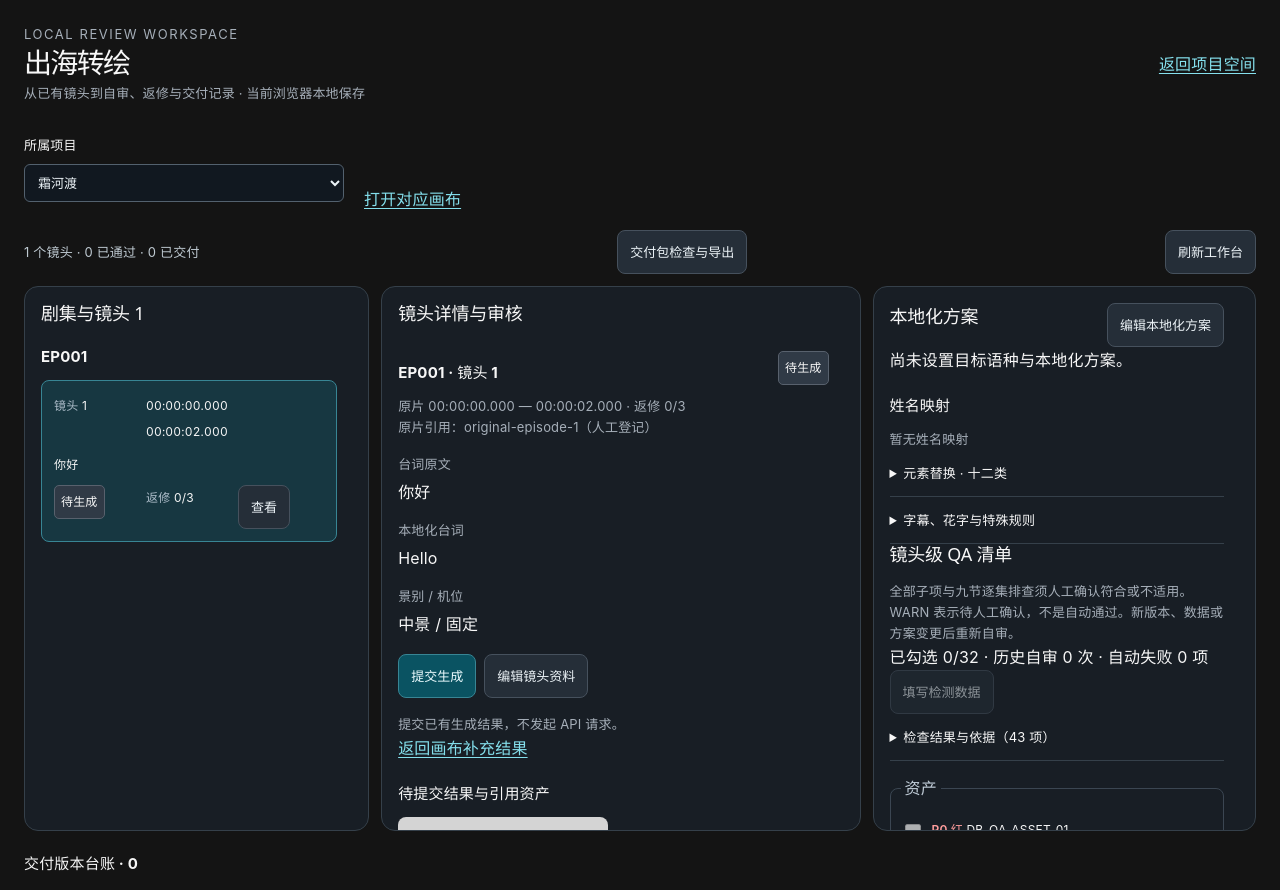
Esc 关闭本地化编辑面板并归还焦点，不保存未提交草稿
Click the button "编辑本地化方案".
click(1166, 325)  # box [1107,303,1224,347]
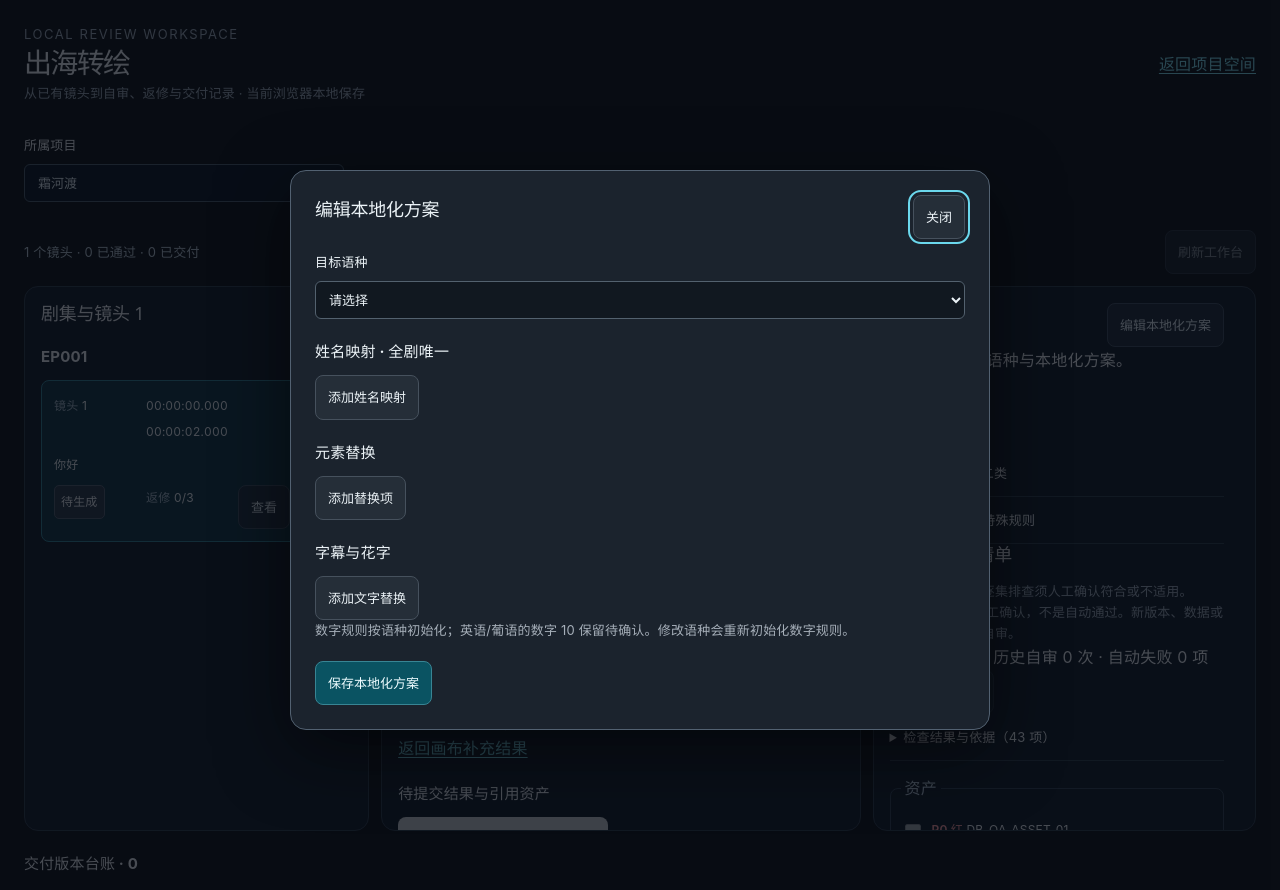
Check: the dialog "编辑本地化方案" is shown, box [290,170,990,730]
Press Escape
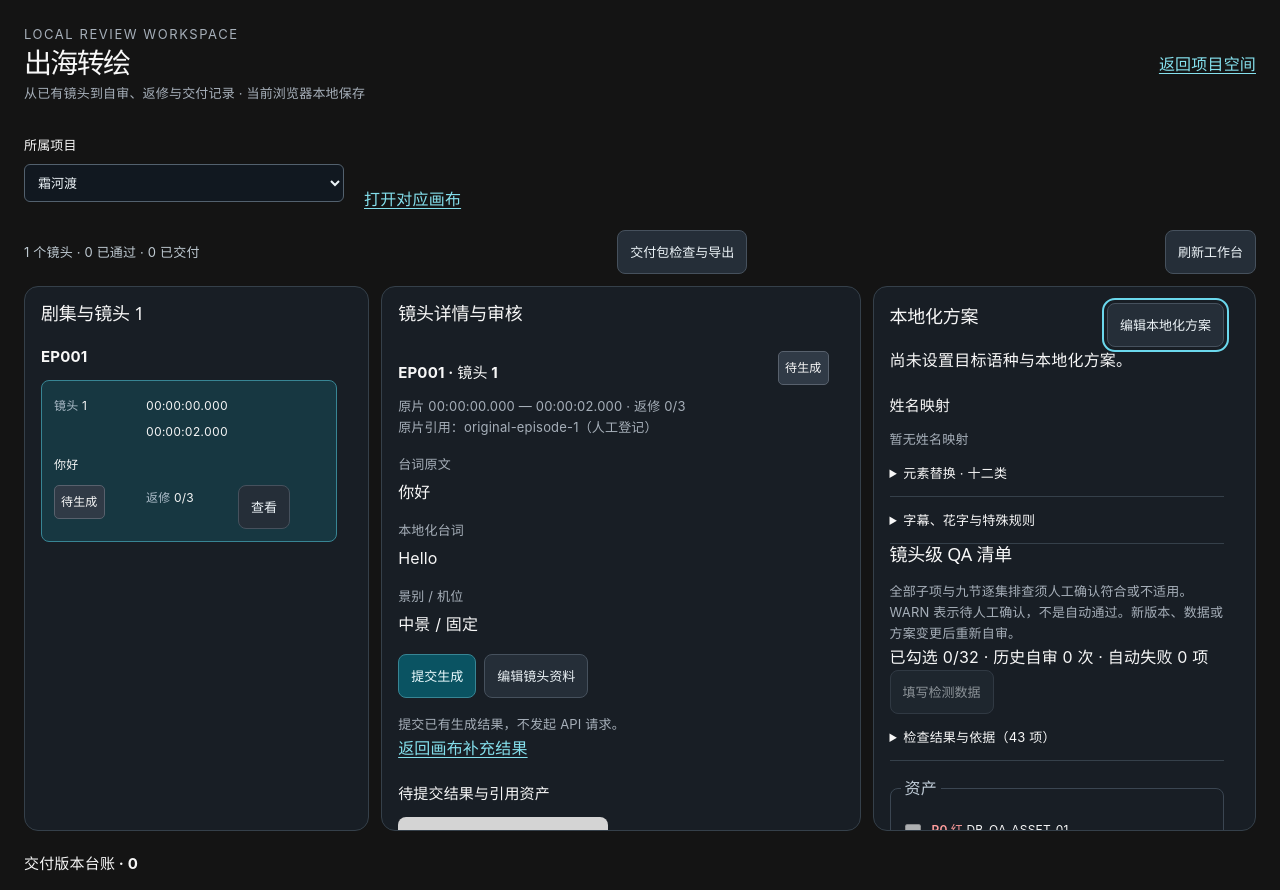
Check: the dialog is gone
